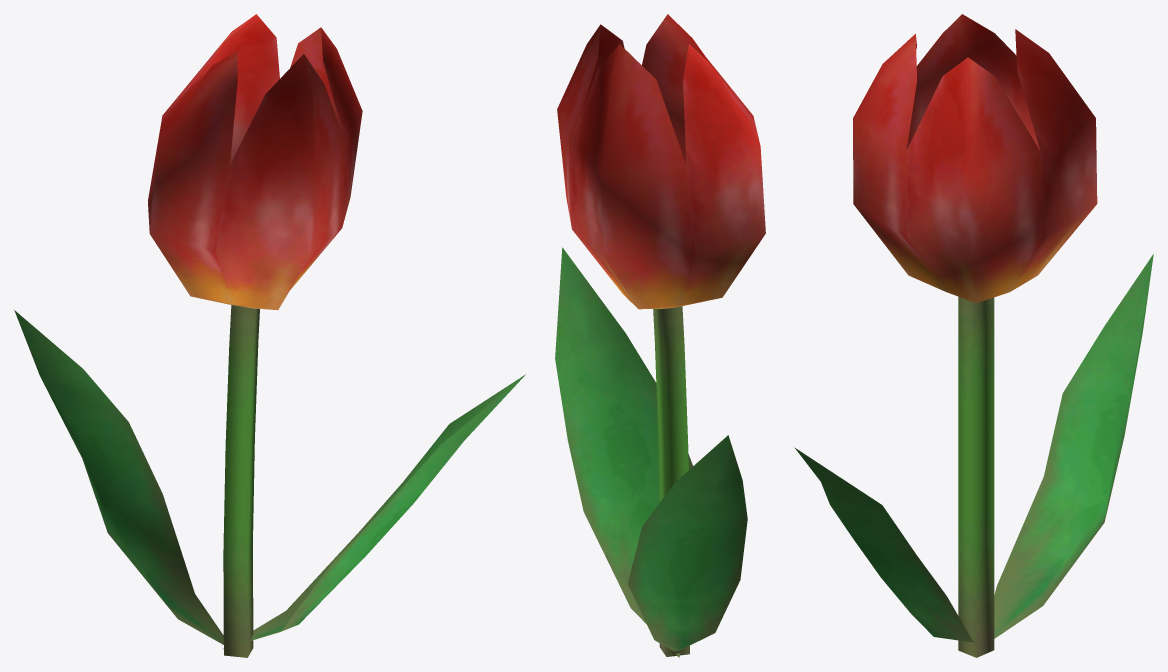
Rendered from zero.ico.obj.
3 renders of one model, left to right at view 1: azimuth 30°, elevation 25°; view 2: azimuth 150°, elevation 25°; view 3: azimuth 270°, elevation 25°, orthographic. The views are drawn at different scales.
Size of the model in its own units: 2.48 by 4.29 by 2.19.
1 material, 1 textured.
